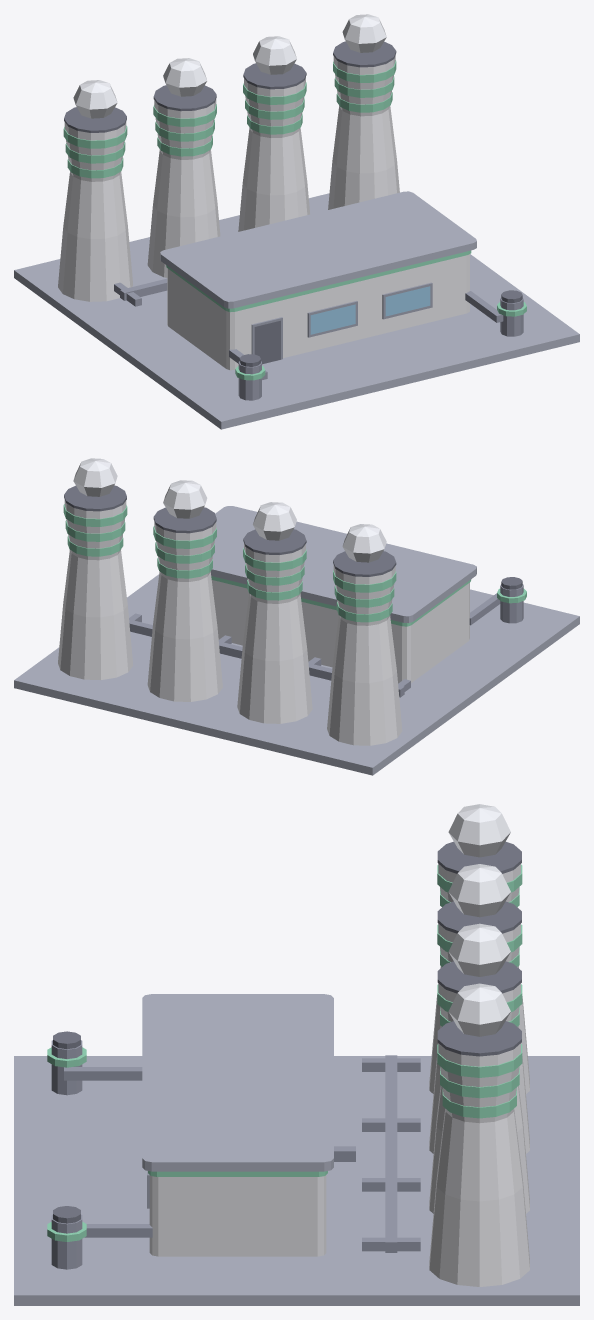
File: geothermal-2x2-large-tone-a.glb
The picture shows the model from 3 angles, top to bottom: view 1: azimuth 30°, elevation 25°; view 2: azimuth 150°, elevation 25°; view 3: azimuth 270°, elevation 25°; orthographic projection. The views are drawn at different scales.
Visible parts, largest first — view 1: geothermal-2x2-large-tone-a; view 2: geothermal-2x2-large-tone-a; view 3: geothermal-2x2-large-tone-a.
Part boxes in pixels (x1,y1,x2,y2): geothermal-2x2-large-tone-a: [14, 14, 579, 429]; geothermal-2x2-large-tone-a: [14, 458, 579, 775]; geothermal-2x2-large-tone-a: [14, 804, 579, 1305].
Size of the model in its own units: 1.92 by 1.08 by 1.92.
1 material, 1 textured.
